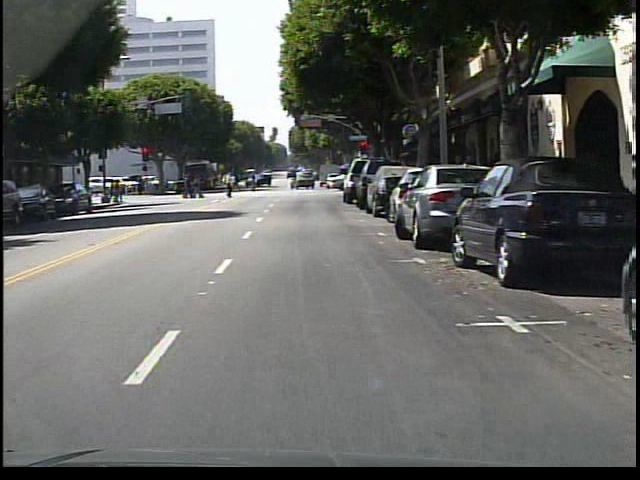person: (217, 170, 238, 200)
